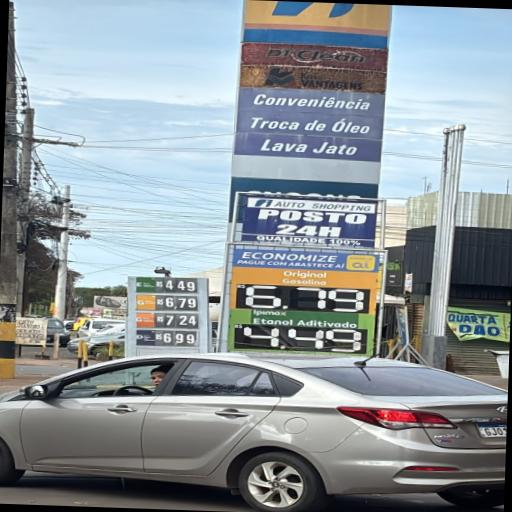ETANOL: (134, 279, 156, 292)
GASOLINA AD: (135, 312, 155, 327)
GASOLINA C: (136, 295, 158, 310)
S10: (135, 330, 155, 345)
placa: (131, 278, 200, 350)
preco: (159, 330, 196, 345), (162, 279, 197, 292), (164, 296, 196, 310), (165, 313, 197, 327)
